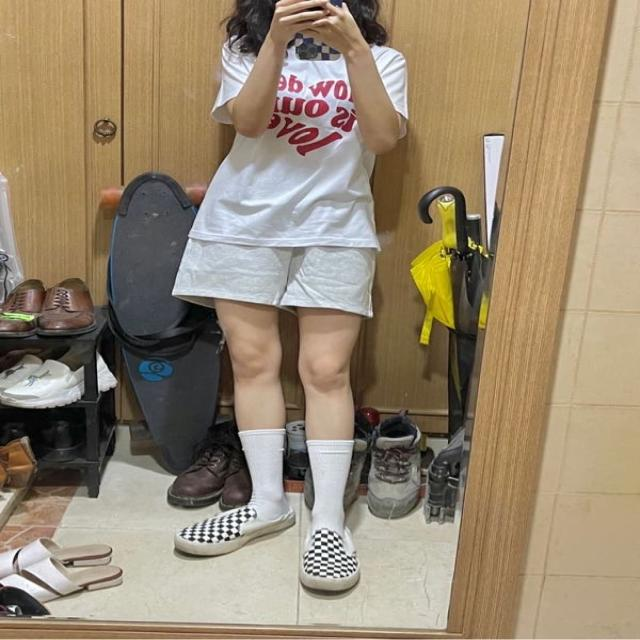shortpants: (171, 218, 380, 320)
shortsleeve: (180, 29, 413, 252)
